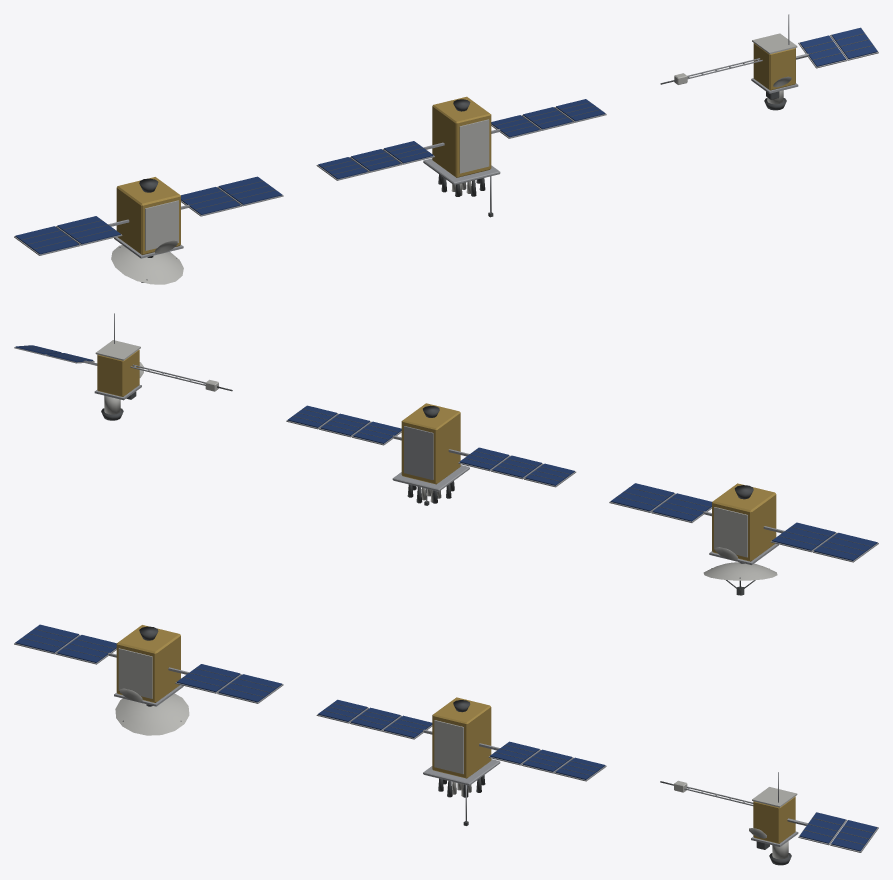
File: satellites.glb
3 renders of one model, top to bottom at view 1: azimuth 30°, elevation 25°; view 2: azimuth 150°, elevation 25°; view 3: azimuth 330°, elevation 25°, orthographic.
Parts seen in each view (by area): view 1: Nav_Bus, Comms_Bus, Wing_Comms_L, Wing_Comms_R, Wing_Nav_L, Wing_Nav_R, Wing_Weather, Comms_Dish, Nav_Panel_Back, Weather_Bus, Comms_Radiator_S, Nav_AntennaDeck (+1 smaller); view 2: Nav_Bus, Comms_Bus, Wing_Comms_L, Wing_Comms_R, Wing_Nav_L, Wing_Nav_R, Weather_Bus, Nav_Panel_Front, Comms_Radiator_N, Comms_Dish, Nav_AntennaDeck, Weather_Top; view 3: Nav_Bus, Comms_Bus, Wing_Comms_R, Wing_Comms_L, Comms_Dish, Wing_Nav_R, Wing_Nav_L, Wing_Weather, Weather_Bus, Comms_Radiator_S, Nav_Panel_Back, Nav_AntennaDeck (+1 smaller).
Boxes of the visible parts, x1=… form: Nav_Bus: x1=432, y1=96, x2=491, y2=177; Comms_Bus: x1=116, y1=177, x2=180, y2=254; Wing_Comms_L: x1=14, y1=216, x2=122, y2=255; Wing_Comms_R: x1=181, y1=176, x2=283, y2=216; Wing_Nav_L: x1=316, y1=141, x2=434, y2=180; Wing_Nav_R: x1=491, y1=99, x2=606, y2=138; Wing_Weather: x1=798, y1=27, x2=878, y2=68; Comms_Dish: x1=111, y1=245, x2=183, y2=284; Nav_Panel_Back: x1=459, y1=119, x2=489, y2=173; Weather_Bus: x1=753, y1=43, x2=795, y2=90; Comms_Radiator_S: x1=145, y1=200, x2=178, y2=250; Nav_AntennaDeck: x1=423, y1=158, x2=500, y2=185; Nav_Bus: x1=401, y1=403, x2=460, y2=484; Comms_Bus: x1=712, y1=483, x2=776, y2=561; Wing_Comms_L: x1=770, y1=522, x2=878, y2=562; Wing_Comms_R: x1=609, y1=483, x2=711, y2=522; Wing_Nav_L: x1=458, y1=447, x2=576, y2=487; Wing_Nav_R: x1=286, y1=405, x2=401, y2=445; Weather_Bus: x1=97, y1=350, x2=139, y2=396; Nav_Panel_Front: x1=404, y1=426, x2=433, y2=479; Comms_Radiator_N: x1=714, y1=507, x2=747, y2=557; Comms_Dish: x1=703, y1=562, x2=777, y2=580; Nav_AntennaDeck: x1=392, y1=465, x2=469, y2=491; Weather_Top: x1=95, y1=340, x2=140, y2=360; Nav_Bus: x1=432, y1=697, x2=491, y2=778; Comms_Bus: x1=116, y1=625, x2=180, y2=702; Wing_Comms_R: x1=175, y1=664, x2=283, y2=703; Wing_Comms_L: x1=14, y1=624, x2=116, y2=664; Comms_Dish: x1=115, y1=693, x2=189, y2=735; Wing_Nav_R: x1=488, y1=741, x2=606, y2=781; Wing_Nav_L: x1=316, y1=699, x2=432, y2=739; Wing_Weather: x1=798, y1=812, x2=878, y2=852; Weather_Bus: x1=753, y1=796, x2=795, y2=843; Comms_Radiator_S: x1=118, y1=648, x2=152, y2=698; Nav_Panel_Back: x1=434, y1=720, x2=463, y2=774; Nav_AntennaDeck: x1=423, y1=759, x2=500, y2=785.
Size of the model in its own units: 37.72 by 5.22 by 3.31.
